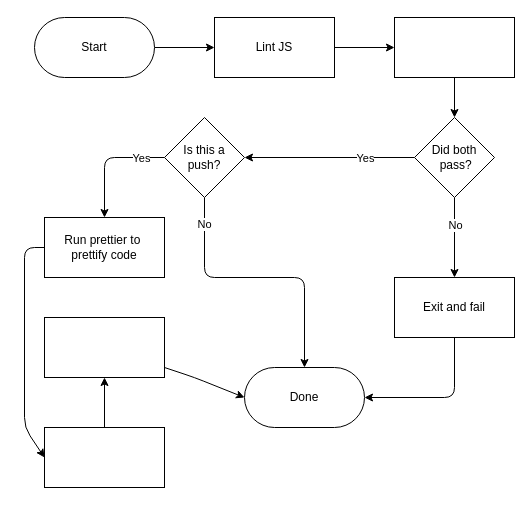
This 532x505 diagram has some shape labels left out. The shapes that lost their labels are listed below. From the top down, each one's centre as x and y in pixels, then its label:
the point at 454,47: Run Unit tests
the point at 104,347: Run build script and push to dev branch
the point at 104,457: Push prettified code to main
